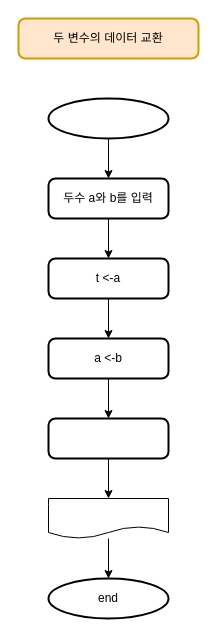
Some shapes in this 216 by 636 pixel diagram are drawn without their labels. Here are the shapes that lost their labels. From the top down, the centre of each, then its label:
the point at 108,118: start
the point at 108,438: b <-t
the point at 108,518: a와 b 출력
